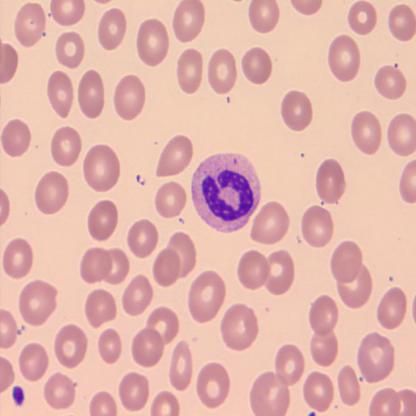Segmented neutrophil: (190, 151, 262, 234)
